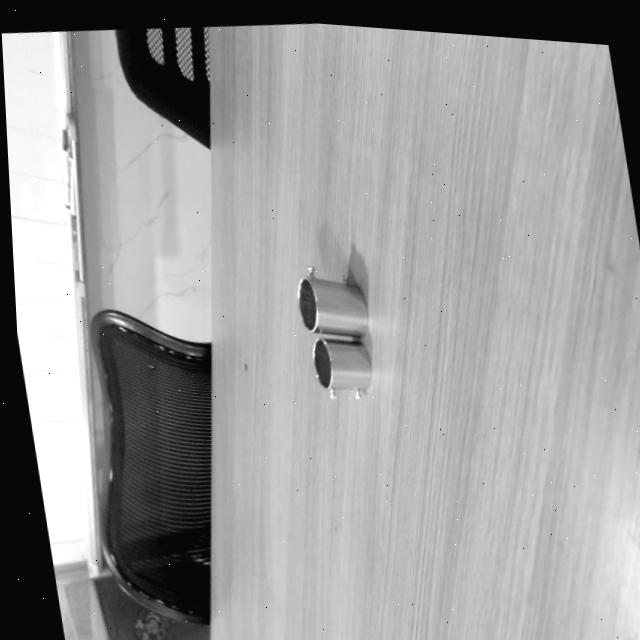Co_Lon: (292, 266, 374, 339)
Co_Nho: (307, 336, 375, 398)
